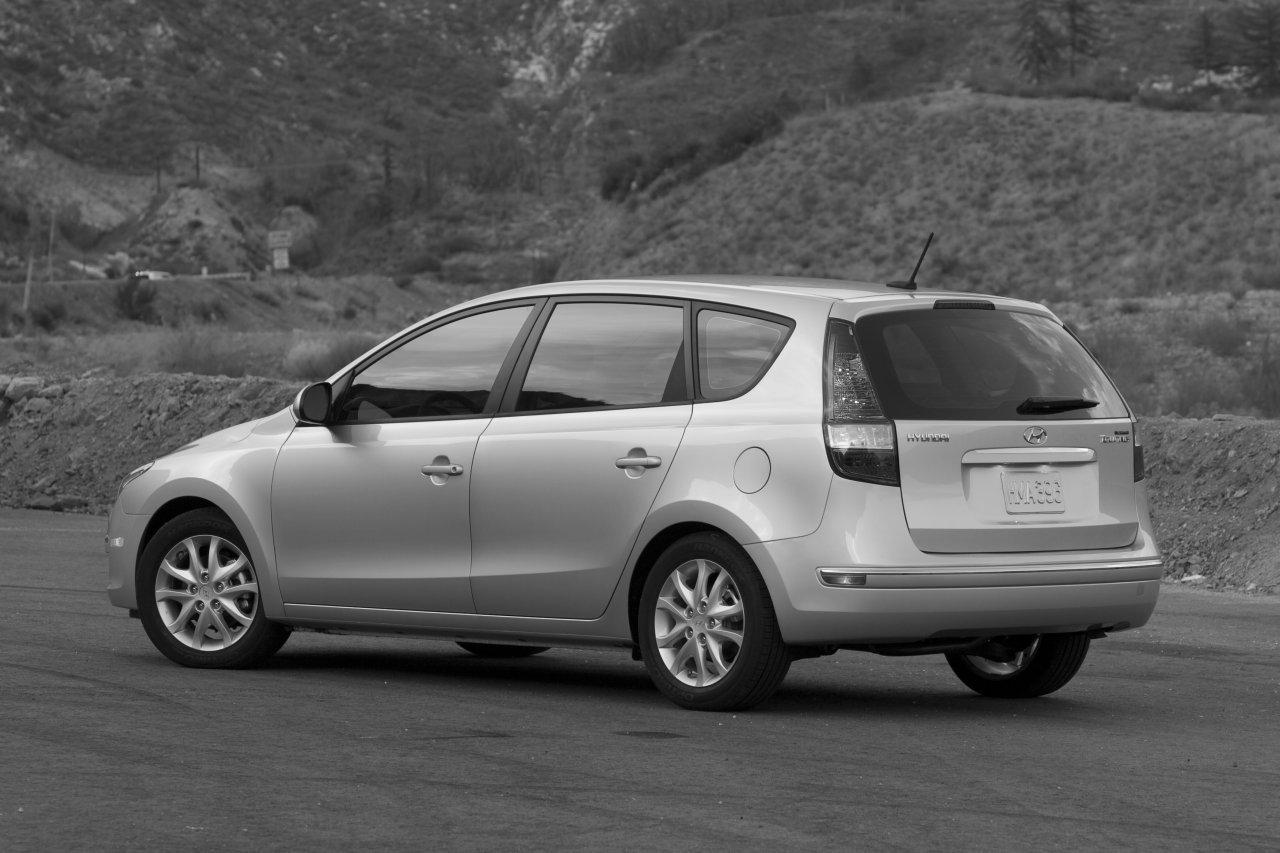car: (104, 227, 1168, 706)
